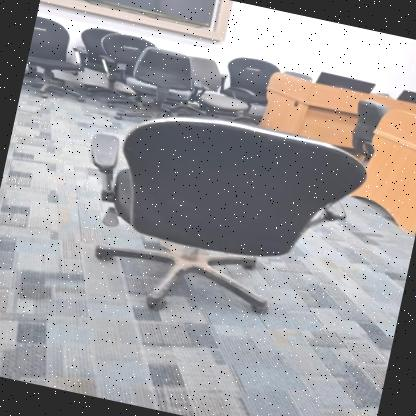chair: (57, 88, 374, 352), (116, 36, 203, 125), (20, 8, 92, 105)
